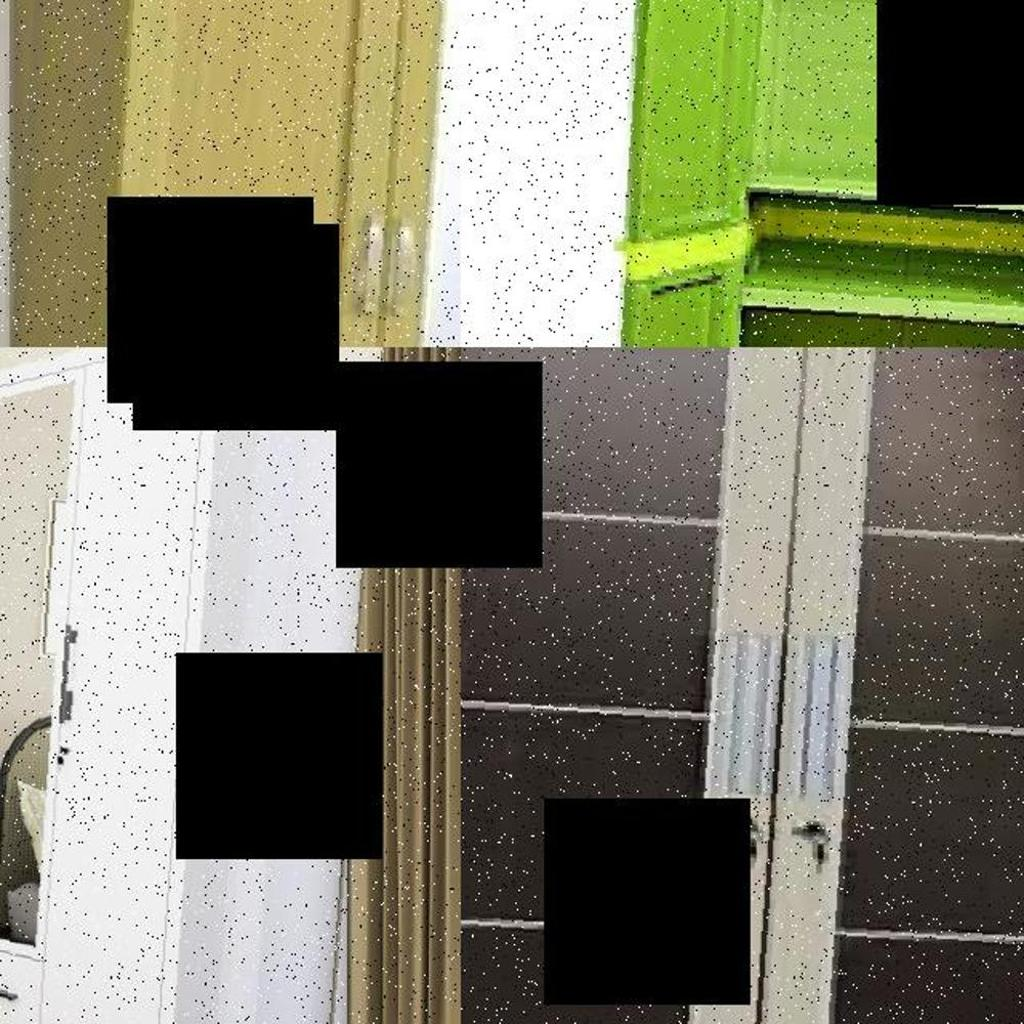cabinet: (461, 347, 1024, 1024), (0, 347, 366, 1024), (562, 0, 1024, 347), (0, 0, 461, 347)
